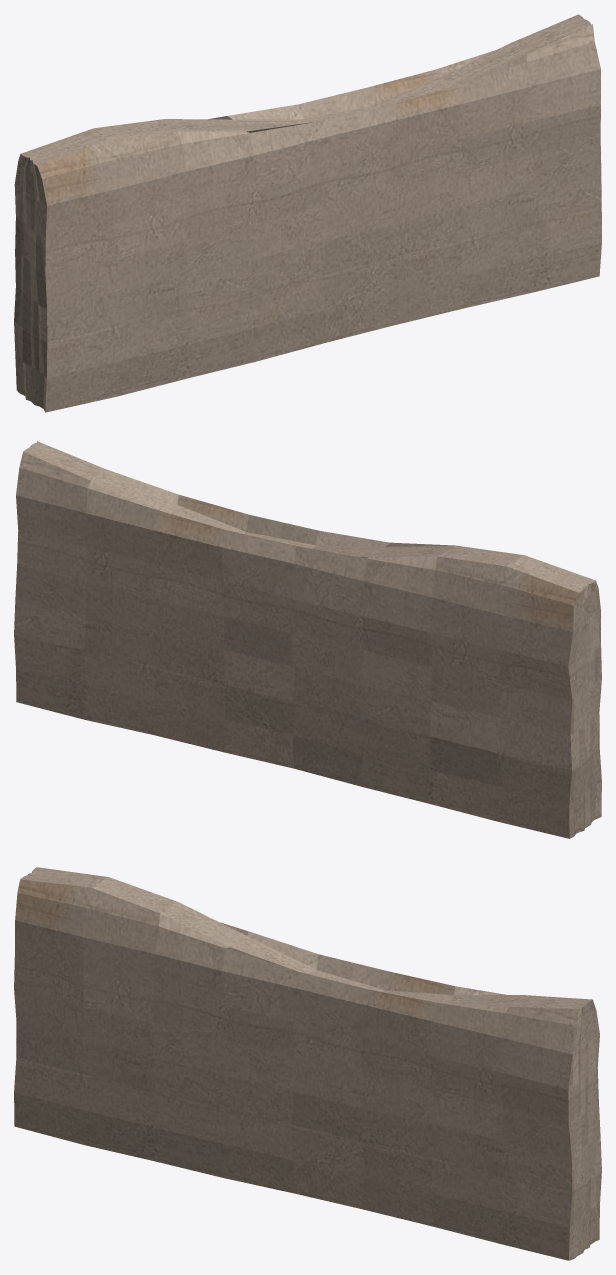
3 renders of one model, top to bottom at view 1: azimuth 30°, elevation 25°; view 2: azimuth 150°, elevation 25°; view 3: azimuth 330°, elevation 25°, orthographic.
Visible parts, largest first — view 1: high; view 2: high; view 3: high.
Boxes of the visible parts, box(x1,y1,x2,y2) form: high: box(14, 14, 601, 412); high: box(14, 441, 601, 838); high: box(14, 867, 601, 1260).
Size of the model in its own units: 4.03 by 1.73 by 0.4192.
Materials: 1 (1 with a texture image).
